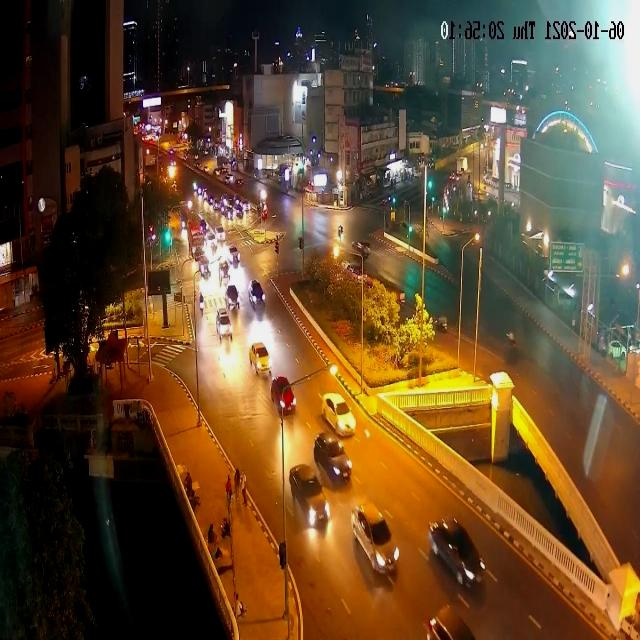Car: (427, 514, 486, 588), (352, 497, 399, 582), (288, 464, 328, 528), (314, 432, 352, 486), (424, 610, 479, 640), (320, 392, 357, 436), (270, 376, 296, 416), (249, 341, 270, 376), (346, 263, 375, 287), (215, 307, 233, 342), (248, 279, 265, 308), (351, 240, 371, 260), (225, 284, 240, 310), (197, 256, 210, 279), (219, 259, 230, 283), (228, 244, 240, 265), (204, 228, 216, 246), (215, 225, 226, 244), (211, 198, 223, 213), (240, 198, 251, 214), (199, 218, 208, 235), (214, 167, 225, 178), (224, 174, 234, 186), (234, 176, 244, 188)
